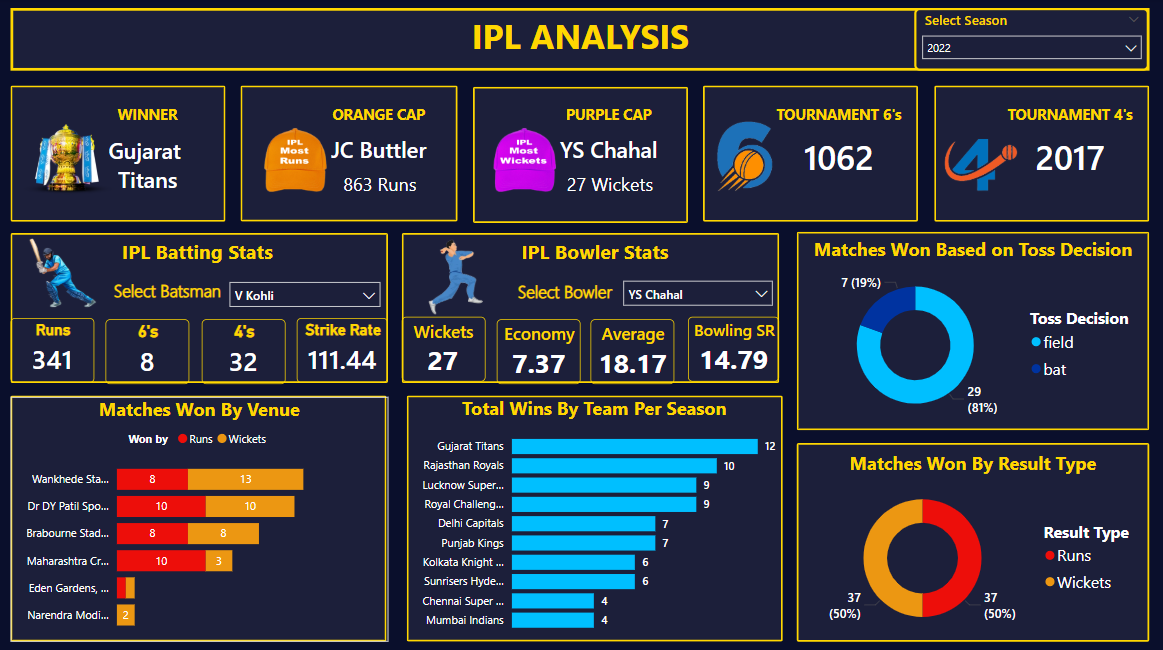

The dashboard page shown, as its layout file describes it:
{"tool":"powerbi","page":{"name":"Page 1","canvas":[1280,720],"ordinal":0},"visuals":[{"type":"shape","box":[876.8,488.5,387,218.2],"z":0},{"type":"shape","box":[13.7,11,1250.1,69],"z":1000},{"type":"textbox","box":[505,11,269,60.4],"z":2000},{"type":"slicer","fields":{"Values":["Datetable.YEAR"]},"box":[1005.8,11,258,68.6],"z":3000},{"type":"shape","box":[13.7,96.1,236,149.6],"z":4000},{"type":"shape","box":[266.2,96.1,238.8,149.6],"z":5000},{"type":"shape","box":[521.4,97.4,236,149.6],"z":6000},{"type":"shape","box":[773.9,96.1,236,149.6],"z":7000},{"type":"shape","box":[1027.8,96.1,236,149.6],"z":8000},{"type":"card","title":"WINNER","fields":{"Values":["public ipl_matches_2008_2022.Title Winner"]},"box":[78.2,101.5,171.5,127.6],"z":9000},{"type":"card","title":"TOURNAMENT  6''s","fields":{"Values":["public ipl_ball_by_ball_2008_2022.batsman_run"]},"box":[835.7,101.5,174.3,115.3],"z":10000},{"type":"card","title":"ORANGE CAP","fields":{"Values":["public ipl_ball_by_ball_2008_2022.batter"]},"box":[330.7,101.5,174.3,101.5],"z":11000},{"type":"card","title":"ORANGE CAP","fields":{"Values":["public ipl_ball_by_ball_2008_2022.Batsmen_run"]},"box":[332.1,178.4,174.3,50.8],"z":12000},{"type":"card","title":"PURPLE CAP","fields":{"Values":["public ipl_ball_by_ball_2008_2022.bowler"]},"box":[583.2,101.5,174.3,101.5],"z":13000},{"type":"card","title":"PURPLE CAP","fields":{"Values":["public ipl_ball_by_ball_2008_2022.Bowler_wkt"]},"box":[584.6,178.4,174.3,49.4],"z":14000},{"type":"card","title":"TOURNAMENT  4''s","fields":{"Values":["public ipl_ball_by_ball_2008_2022.batsman_run"]},"box":[1089.5,101.5,174.3,115.3],"z":15000},{"type":"shape","box":[13.7,258,414.4,164.7],"z":16000},{"type":"shape","box":[443.2,258,414.4,164.7],"z":17000},{"type":"textbox","box":[102.9,303.3,166,39.8],"z":18000},{"type":"textbox","box":[111.1,258,215.4,39.8],"z":23000},{"type":"textbox","box":[539.3,304.6,166,39.8],"z":24000},{"type":"slicer","fields":{"Values":["public ipl_ball_by_ball_2008_2022.batter"]},"box":[247,304.6,179.8,41.2],"z":25000},{"type":"slicer","fields":{"Values":["public ipl_ball_by_ball_2008_2022.bowler"]},"box":[679.2,303.3,178.4,42.5],"z":26000},{"type":"textbox","box":[547.5,258,215.4,39.8],"z":31000},{"type":"shape","box":[876.8,256.6,387,218],"z":32000},{"type":"donutChart","title":"Matches Won By Result Type","fields":{"Category":["public ipl_matches_2008_2022.won_by"],"Y":["public ipl_matches_2008_2022.id"]},"box":[876.8,491.3,387,215.4],"z":33000},{"type":"donutChart","title":"Matches Won Based on Toss Decision","fields":{"Y":["public ipl_matches_2008_2022.Matches won on toss decision"],"Category":["public ipl_matches_2008_2022.toss_decision"]},"box":[876.8,256.6,387,216.8],"z":34000},{"type":"shape","box":[13.7,436.4,413,270.3],"z":35000},{"type":"barChart","title":"Matches Won By Venue","fields":{"Category":["public ipl_matches_2008_2022.venue"],"Y":["public ipl_matches_2008_2022.id"],"Series":["public ipl_matches_2008_2022.won_by"]},"box":[13.7,437.7,414.4,269],"z":36000},{"type":"shape","box":[448.7,436.4,413,270.3],"z":37000},{"type":"barChart","title":"Total Wins By Team Per Season","fields":{"Category":["public ipl_matches_2008_2022.winning_team"],"Y":["public ipl_matches_2008_2022.winning_team"]},"box":[447.3,436.4,414.4,269],"z":38000},{"type":"image","box":[12.3,105.7,130.4,145.5],"z":39000},{"type":"image","box":[281.3,135.8,90.6,85.1],"z":40000},{"type":"image","box":[533.8,135.8,89.2,85.1],"z":41000},{"type":"image","box":[22,259.3,109.8,91.9],"z":42000},{"type":"image","box":[447.3,259.3,112.5,93.3],"z":43000},{"type":"image","box":[1027.8,113.9,107,113.9],"z":44000},{"type":"image","box":[768.4,102.9,104.3,149.6],"z":45000},{"type":"card","title":"Runs","fields":{"Values":["public ipl_ball_by_ball_2008_2022.batsman_run"]},"box":[13.7,351.3,91.9,71.4],"z":45001},{"type":"card","title":"6''s","fields":{"Values":["public ipl_ball_by_ball_2008_2022.batsman_run"]},"box":[118,352.7,91.9,71.4],"z":45002},{"type":"card","title":"4''s","fields":{"Values":["public ipl_ball_by_ball_2008_2022.batsman_run"]},"box":[223.7,352.7,91.9,71.4],"z":45003},{"type":"card","title":"Strike Rate","fields":{"Values":["public ipl_ball_by_ball_2008_2022.Strike rate for batsmen"]},"box":[328,351.3,100.2,71.4],"z":45004},{"type":"card","title":"Wickets","fields":{"Values":["public ipl_ball_by_ball_2008_2022.iswicket_delivery"]},"box":[443.2,349.9,91.9,71.4],"z":45005},{"type":"card","title":"Economy","fields":{"Values":["public ipl_ball_by_ball_2008_2022.Economy"]},"box":[547.5,352.7,91.9,71.4],"z":45006},{"type":"card","title":"Average","fields":{"Values":["public ipl_ball_by_ball_2008_2022.Average by bowler"]},"box":[650.4,352.7,91.9,71.4],"z":45007},{"type":"card","title":"Bowling SR","fields":{"Values":["public ipl_ball_by_ball_2008_2022.Average"]},"box":[757.5,349.9,100.2,71.4],"z":45008}]}

Visuals, with their boxes in screenshot pixels (x1, y1, x2, y2), scaled from the page's 1280x720 canvas onto the 1163x650 screenshot:
shape: 797 441 1148 638
shape: 12 10 1148 72
textbox: 459 10 703 64
slicer - Datetable.YEAR: 914 10 1148 72
shape: 12 87 227 222
shape: 242 87 459 222
shape: 474 88 688 223
shape: 703 87 918 222
shape: 934 87 1148 222
"WINNER" card: 71 92 227 207
"TOURNAMENT  6''s" card: 759 92 918 196
"ORANGE CAP" card: 300 92 459 183
"ORANGE CAP" card: 302 161 460 207
"PURPLE CAP" card: 530 92 688 183
"PURPLE CAP" card: 531 161 690 206
"TOURNAMENT  4''s" card: 990 92 1148 196
shape: 12 233 389 382
shape: 403 233 779 382
textbox: 93 274 244 310
textbox: 101 233 297 269
textbox: 490 275 641 311
slicer - public ipl_ball_by_ball_2008_2022.batter: 224 275 388 312
slicer - public ipl_ball_by_ball_2008_2022.bowler: 617 274 779 312
textbox: 497 233 693 269
shape: 797 232 1148 428
"Matches Won By Result Type" donutChart: 797 444 1148 638
"Matches Won Based on Toss Decision" donutChart: 797 232 1148 427
shape: 12 394 388 638
"Matches Won By Venue" barChart: 12 395 389 638
shape: 408 394 783 638
"Total Wins By Team Per Season" barChart: 406 394 783 637
image: 11 95 130 227
image: 256 123 338 199
image: 485 123 566 199
image: 20 234 120 317
image: 406 234 509 318
image: 934 103 1031 206
image: 698 93 793 228
"Runs" card: 12 317 96 382
"6''s" card: 107 318 191 383
"4''s" card: 203 318 287 383
"Strike Rate" card: 298 317 389 382
"Wickets" card: 403 316 486 380
"Economy" card: 497 318 581 383
"Average" card: 591 318 674 383
"Bowling SR" card: 688 316 779 380
